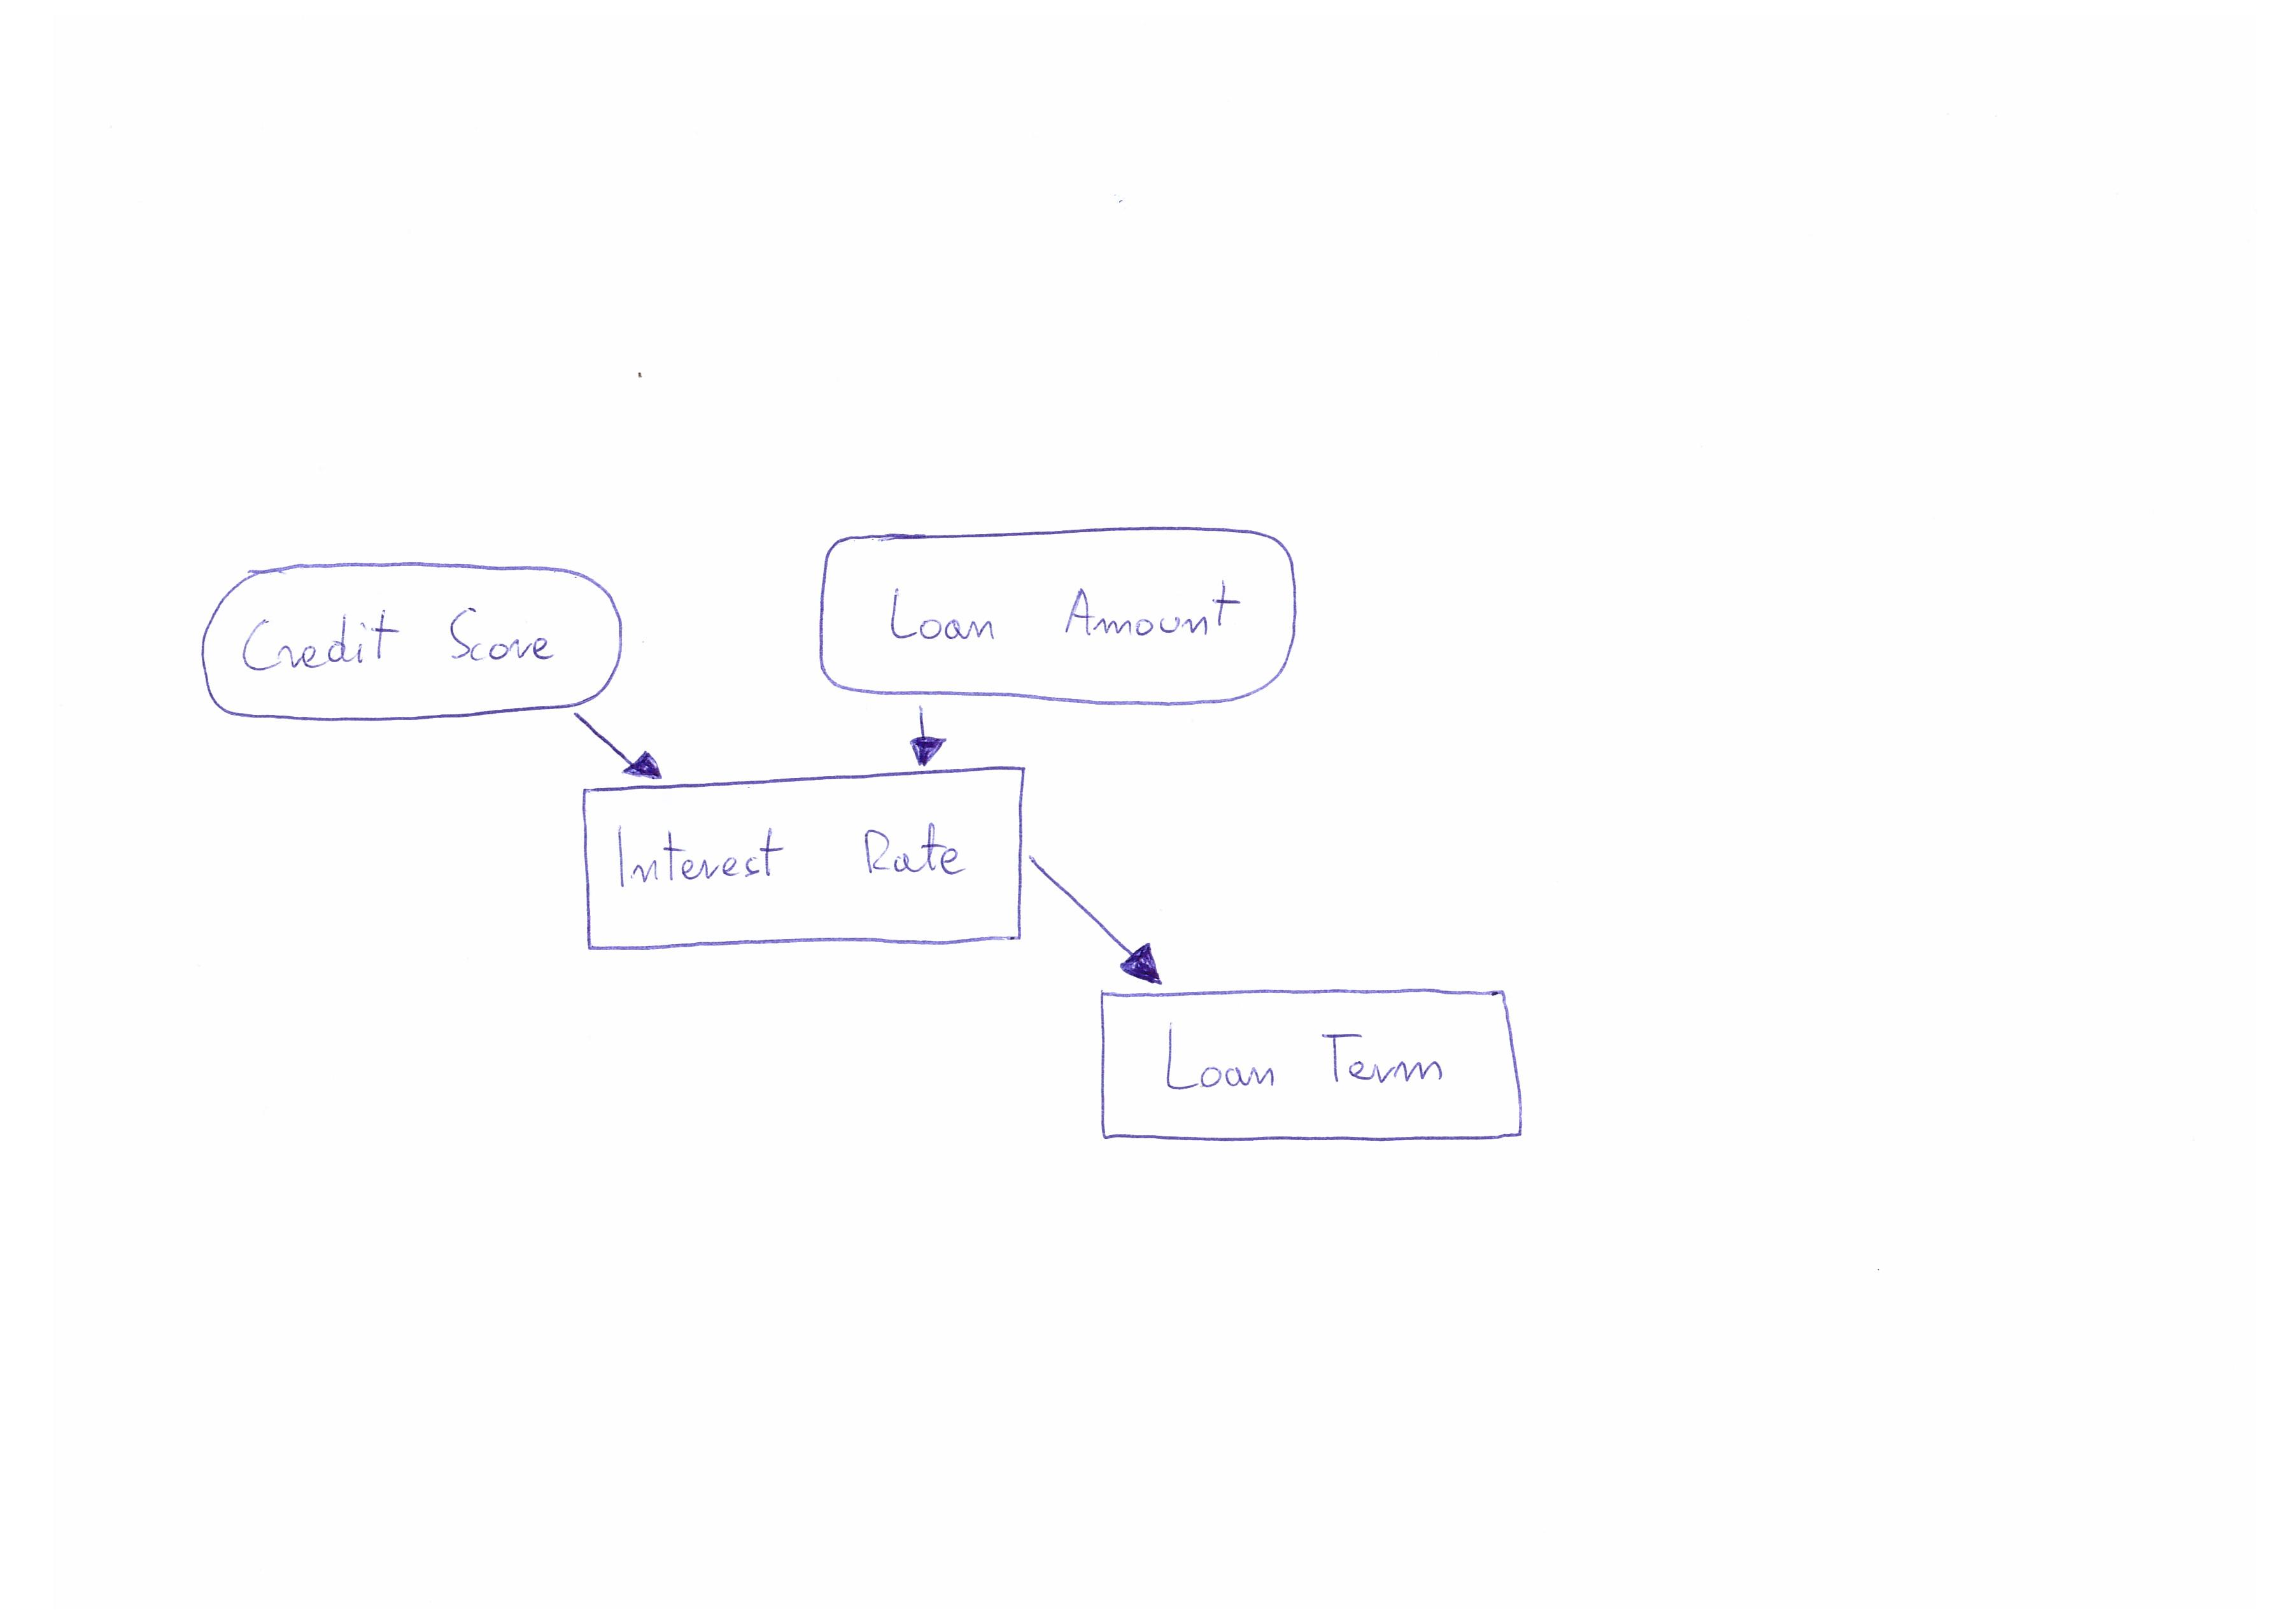arrow_information_requirement: (1023, 844, 1176, 990), (557, 708, 677, 784), (893, 703, 951, 768)
node_decision: (576, 761, 1031, 965), (1096, 984, 1534, 1149)
node_input_data: (812, 524, 1307, 712), (193, 557, 631, 728)
text: (599, 808, 986, 902), (875, 568, 1251, 661), (235, 601, 573, 689), (1151, 1014, 1460, 1107)
